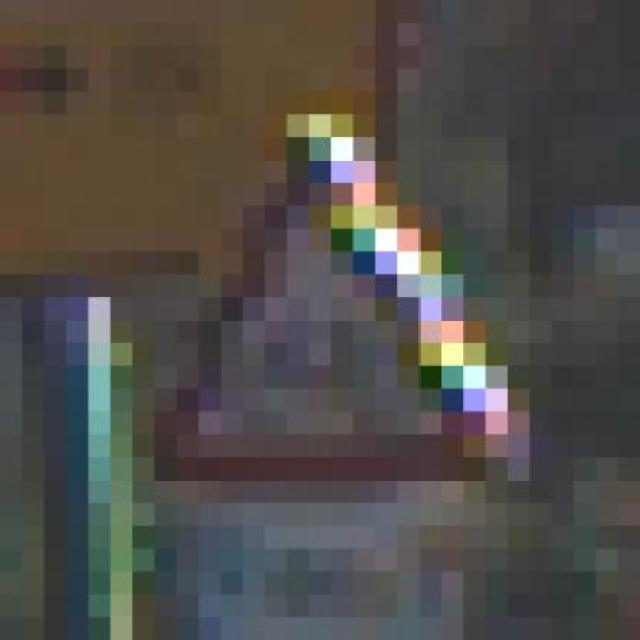CYCLE ROUTE AHEAD WARNING: (110, 46, 508, 480)
